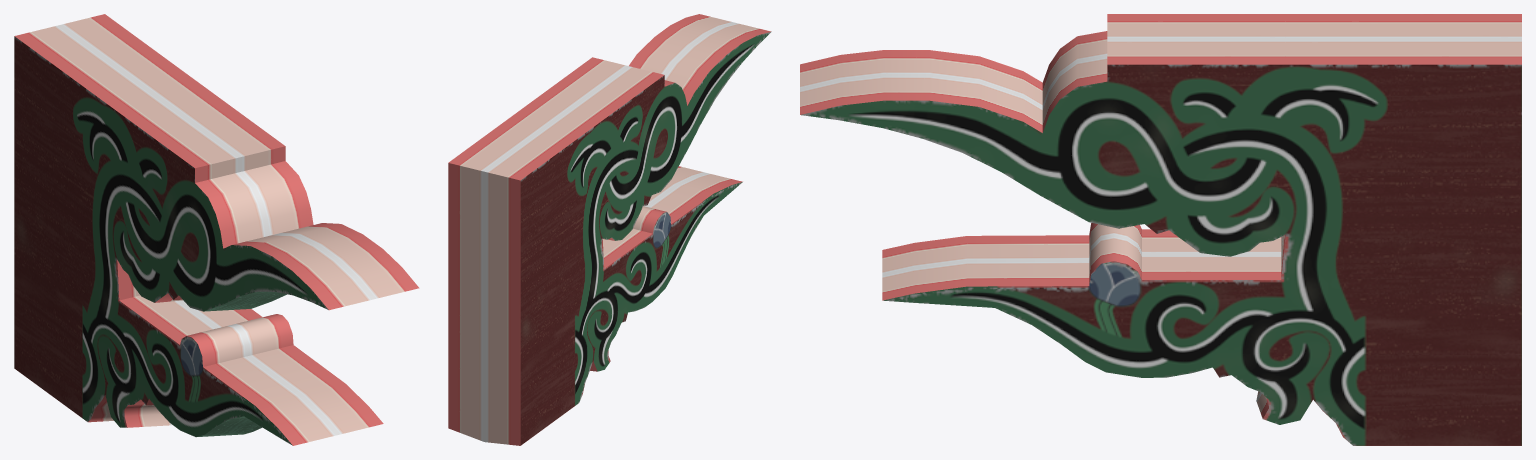
File: SM_CGJ_Gongpo02d.fbx
3 views of the same model, side by side, from view 1: azimuth 30°, elevation 25°; view 2: azimuth 150°, elevation 25°; view 3: azimuth 270°, elevation 25° (orthographic). The views are drawn at different scales.
Visible parts, largest first — view 1: SM_CGJ_Gongpo02d; view 2: SM_CGJ_Gongpo02d; view 3: SM_CGJ_Gongpo02d.
Boxes of the visible parts, x1,y1,x2,y2 form: SM_CGJ_Gongpo02d: [14, 14, 419, 445]; SM_CGJ_Gongpo02d: [448, 14, 771, 445]; SM_CGJ_Gongpo02d: [800, 14, 1521, 445].
Bounding box in the file's own units: 11.17 × 67.22 × 39.93.
Materials: 1 (1 with a texture image).
